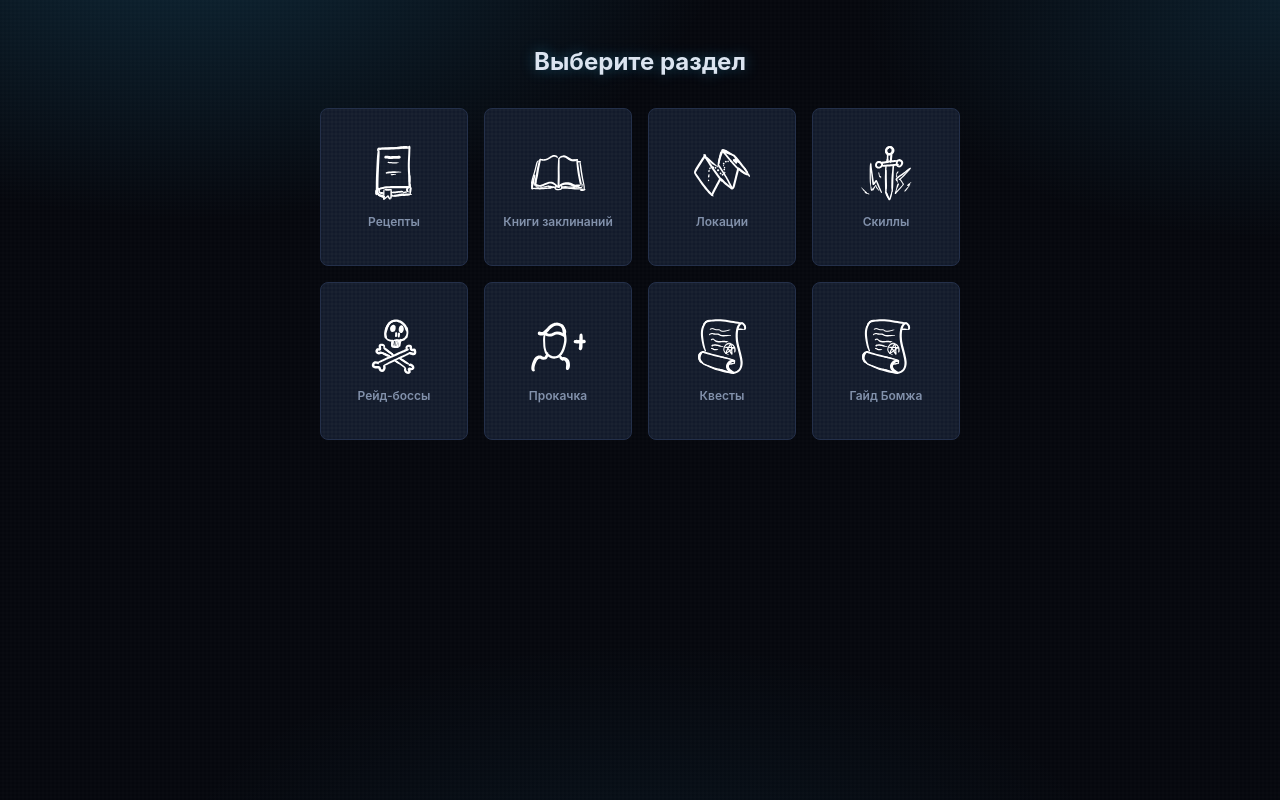
Scenario: MainPage › closes easter egg on overlay click
Press i
Press d
Press d
Press q
Press d
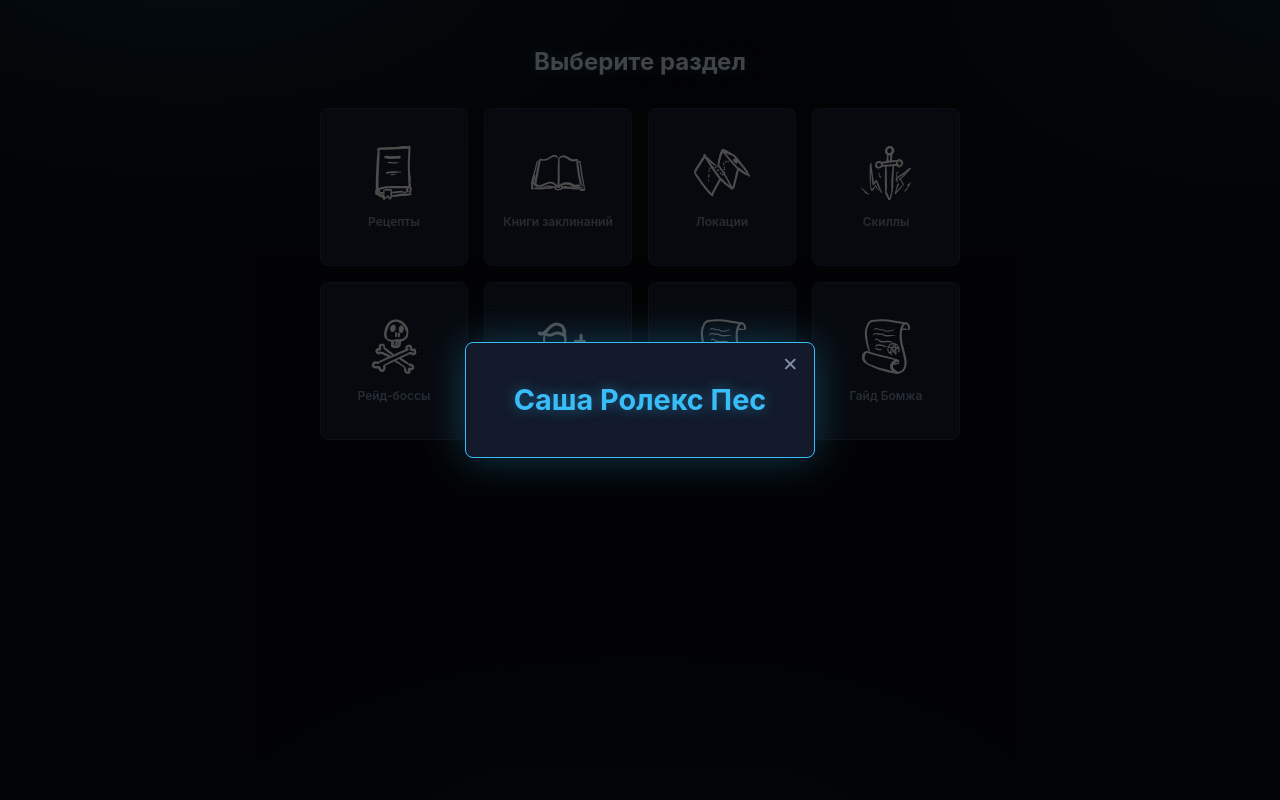
Click the button "✕" at (790,365), box [778,351,802,379]
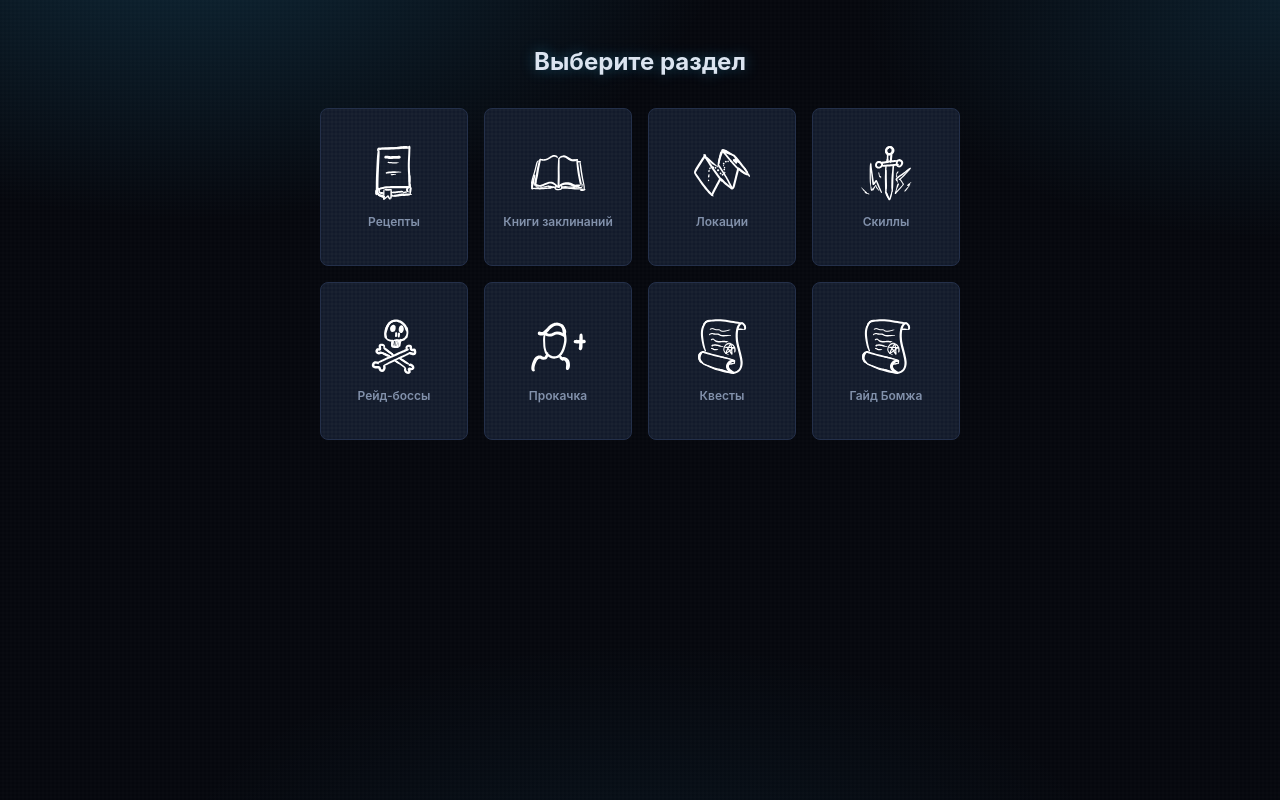
Check: the text "Саша Ролекс Пес" is gone
